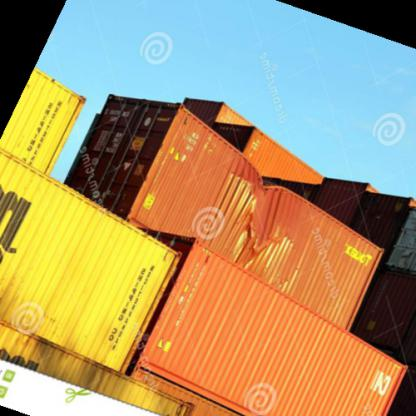Damage: (226, 172, 300, 257)
